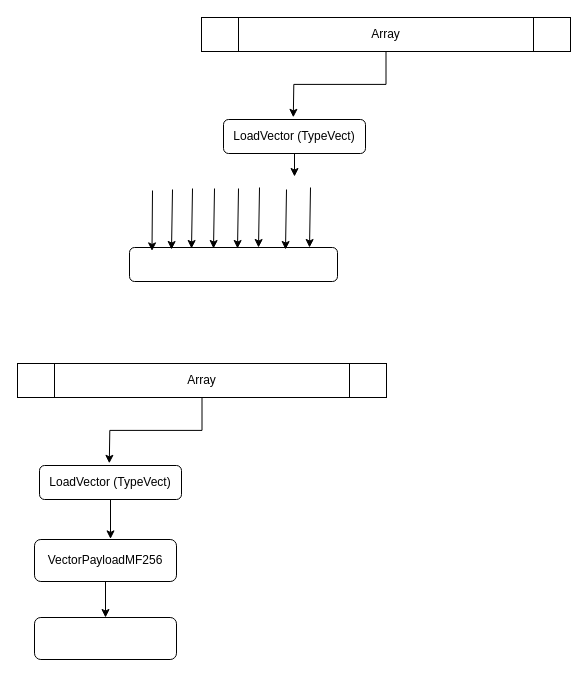
Some shapes in this 588 by 677 pixel diagram are drawn without their labels. Each missing label, with the centre of its shape:
"Float256Vector" goes at pixel 105 638.
"VectorPayload256" goes at pixel 233 264.
